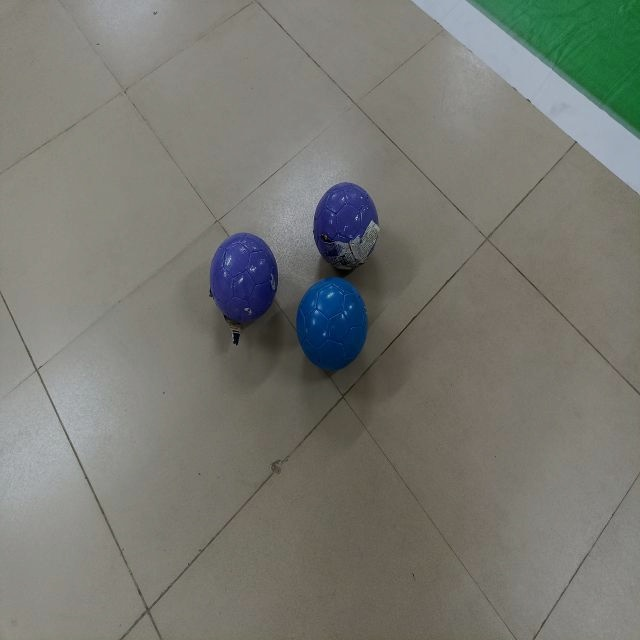blue_ball: (289, 282, 372, 376)
purple_ball: (210, 230, 281, 336), (313, 176, 383, 273)
